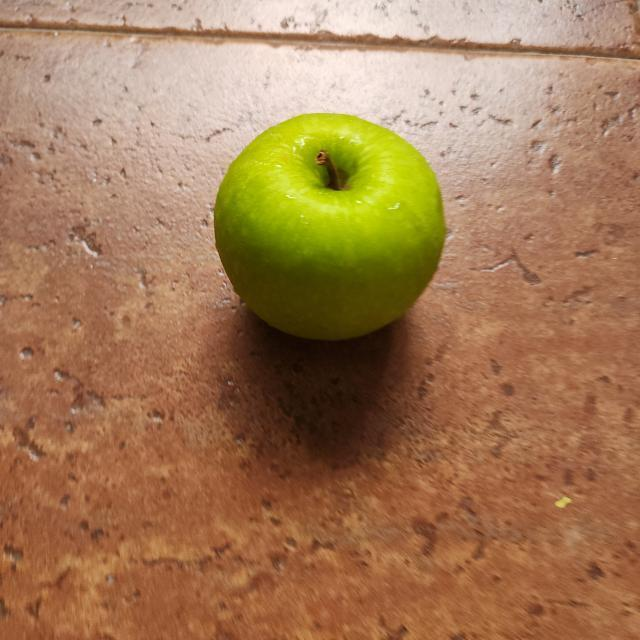apple: (206, 106, 452, 360)
